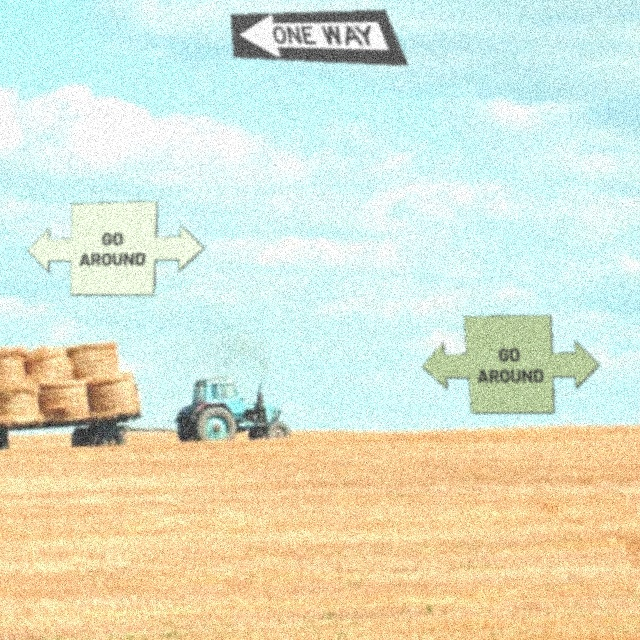GO_AROUND: (421, 314, 600, 414), (26, 200, 205, 296)
ONE_WAY_ left: (230, 9, 409, 66)
